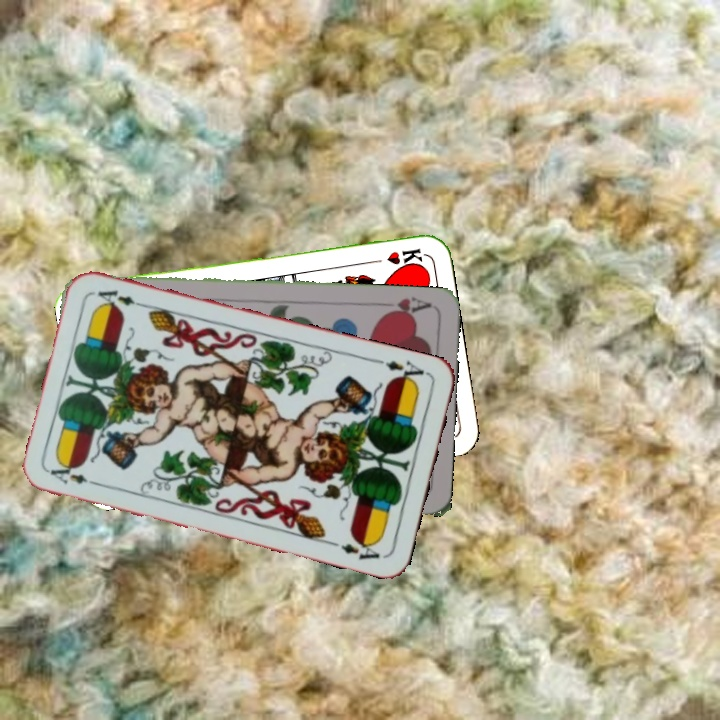EA: (372, 355, 431, 386), (46, 460, 103, 489)
HA: (375, 293, 434, 320)
HK: (366, 244, 426, 268)
